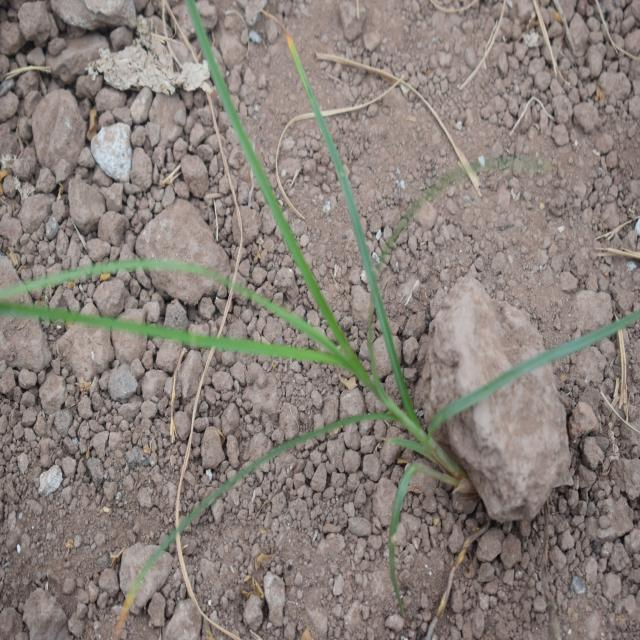sedge: (42, 44, 590, 582)
